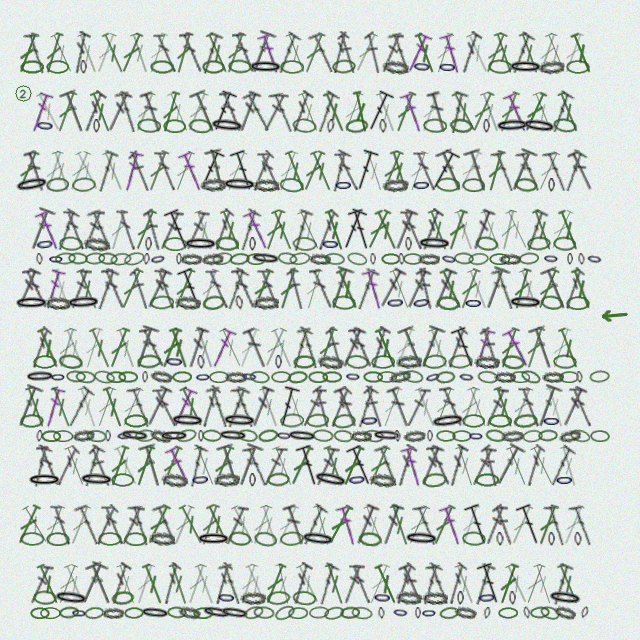chain: (312, 469, 349, 490), (14, 175, 50, 194), (521, 117, 557, 135), (430, 412, 466, 430), (300, 530, 336, 548), (53, 589, 89, 607), (547, 589, 583, 607), (209, 117, 245, 134), (201, 604, 232, 621), (495, 118, 530, 133), (222, 177, 257, 192), (417, 236, 452, 251), (66, 295, 101, 310), (508, 295, 543, 310), (170, 413, 205, 428), (222, 413, 257, 428), (79, 472, 114, 487), (404, 531, 439, 546), (219, 605, 250, 621), (248, 60, 283, 74), (508, 60, 543, 74), (183, 237, 218, 251), (14, 296, 49, 310), (27, 473, 62, 487), (196, 532, 231, 546), (250, 251, 281, 266), (119, 428, 150, 443), (273, 603, 297, 622), (253, 530, 278, 548), (552, 117, 578, 134), (382, 59, 409, 75), (538, 59, 565, 75), (382, 177, 409, 193), (83, 236, 110, 252), (317, 354, 344, 370), (161, 472, 188, 488), (369, 472, 396, 488), (292, 117, 317, 134), (58, 353, 83, 370), (287, 429, 317, 443), (140, 606, 170, 620), (519, 368, 542, 386), (449, 117, 473, 134), (475, 235, 499, 252), (202, 294, 226, 311), (540, 294, 564, 311), (388, 368, 412, 385), (228, 530, 252, 547), (553, 604, 577, 621), (200, 177, 227, 192), (188, 118, 213, 134), (279, 177, 304, 193), (292, 236, 317, 252), (513, 413, 538, 429), (422, 472, 447, 488), (266, 590, 291, 606), (292, 590, 317, 606), (539, 604, 561, 622), (123, 250, 146, 267), (175, 427, 198, 444), (175, 295, 201, 310), (253, 295, 279, 310), (396, 354, 422, 369), (25, 370, 55, 383), (218, 429, 248, 442), (372, 429, 402, 442), (214, 472, 240, 487), (149, 531, 175, 546), (396, 590, 422, 605), (345, 118, 369, 134), (514, 177, 538, 193), (436, 295, 460, 311), (345, 354, 369, 370), (501, 354, 525, 370), (332, 413, 356, 429), (149, 428, 173, 444), (558, 428, 582, 444), (358, 531, 382, 547), (111, 590, 135, 606), (448, 354, 473, 369), (243, 604, 265, 621), (93, 369, 116, 385), (253, 178, 279, 192), (45, 296, 71, 310), (474, 355, 500, 369), (240, 591, 266, 605), (422, 591, 448, 605), (228, 59, 252, 74), (332, 59, 356, 74), (488, 59, 512, 74), (137, 118, 161, 133), (423, 118, 447, 133), (72, 177, 96, 192), (436, 177, 460, 192), (59, 236, 83, 251), (215, 236, 239, 251), (527, 236, 551, 251), (150, 295, 174, 310), (332, 295, 356, 310), (137, 354, 161, 369), (423, 354, 447, 369), (553, 354, 577, 369), (280, 413, 304, 428), (159, 430, 189, 442), (280, 531, 304, 546), (462, 531, 486, 546), (33, 590, 57, 605), (411, 294, 432, 311), (346, 251, 368, 267), (569, 428, 591, 444), (323, 605, 345, 621), (46, 177, 69, 192), (553, 236, 576, 251), (150, 369, 173, 384), (306, 413, 329, 428), (72, 428, 95, 443), (267, 472, 290, 487), (178, 605, 201, 620), (454, 605, 477, 620), (20, 60, 44, 74), (150, 60, 174, 74), (280, 60, 304, 74), (566, 60, 590, 74), (163, 237, 187, 251), (566, 296, 590, 310), (33, 355, 57, 369), (371, 355, 395, 369), (20, 414, 44, 428), (124, 414, 148, 428), (488, 414, 512, 428), (475, 473, 499, 487), (20, 532, 44, 546), (46, 532, 70, 546), (98, 532, 122, 546), (289, 251, 311, 266), (402, 369, 424, 384), (257, 428, 279, 443), (46, 60, 69, 74), (202, 60, 225, 74), (163, 119, 186, 133), (462, 178, 485, 192), (201, 252, 224, 266), (293, 355, 316, 369), (462, 414, 485, 428), (403, 429, 426, 443), (501, 429, 524, 443), (111, 473, 134, 487), (124, 532, 147, 546), (35, 236, 55, 252), (212, 251, 233, 266), (277, 251, 298, 266), (237, 428, 258, 443), (485, 428, 506, 443), (110, 252, 132, 266), (477, 370, 499, 384), (351, 606, 373, 620), (412, 59, 432, 74), (35, 118, 55, 133), (347, 472, 367, 487), (477, 590, 497, 605), (229, 252, 250, 266), (324, 252, 345, 266), (468, 252, 489, 266), (75, 370, 96, 384), (249, 370, 270, 384), (287, 370, 308, 384), (435, 370, 456, 384), (86, 429, 107, 443), (333, 429, 354, 443), (363, 429, 384, 443), (522, 429, 543, 443), (84, 606, 105, 620), (439, 606, 460, 620), (424, 369, 442, 385), (312, 429, 334, 442), (253, 606, 275, 619), (386, 295, 405, 310), (165, 354, 184, 369), (360, 413, 379, 428), (191, 472, 210, 487), (217, 590, 236, 605), (373, 590, 392, 605), (55, 252, 76, 265), (589, 370, 610, 383), (135, 429, 156, 442), (438, 60, 457, 74), (334, 178, 353, 192), (412, 178, 431, 192), (321, 237, 340, 251), (464, 296, 483, 310), (542, 414, 561, 428), (555, 473, 574, 487), (180, 253, 202, 265), (309, 253, 331, 265), (418, 253, 440, 265), (499, 253, 521, 265), (225, 371, 247, 383), (494, 371, 516, 383), (542, 371, 564, 383), (350, 430, 372, 442), (102, 607, 124, 619), (68, 252, 88, 265), (85, 252, 105, 265), (98, 252, 118, 265), (454, 252, 474, 265), (519, 252, 539, 265), (66, 370, 86, 383), (202, 429, 222, 442), (538, 429, 558, 442), (59, 606, 79, 619), (167, 606, 187, 619), (309, 606, 329, 619), (340, 606, 360, 619), (530, 606, 550, 619), (149, 252, 167, 266), (440, 252, 458, 266), (489, 253, 510, 265), (40, 607, 61, 619), (246, 253, 266, 265), (381, 253, 401, 265), (403, 253, 423, 265), (106, 371, 126, 383), (118, 371, 138, 383), (172, 371, 192, 383), (209, 371, 229, 383), (271, 371, 291, 383), (308, 371, 328, 383), (322, 371, 342, 383), (363, 371, 383, 383), (377, 371, 397, 383), (510, 371, 530, 383), (559, 371, 579, 383), (41, 430, 61, 442), (53, 430, 73, 442), (436, 430, 456, 442), (452, 430, 472, 442), (590, 430, 610, 442), (30, 607, 50, 619), (124, 607, 144, 619), (193, 607, 213, 619), (288, 607, 308, 619), (498, 607, 518, 619), (586, 252, 603, 266), (458, 370, 475, 384), (241, 370, 258, 383), (116, 429, 133, 442), (392, 606, 409, 619), (543, 252, 559, 265), (345, 370, 361, 383), (276, 429, 292, 442), (48, 253, 64, 265), (50, 371, 66, 383), (195, 371, 211, 383), (468, 430, 484, 442), (71, 607, 87, 619), (421, 607, 437, 619), (235, 295, 244, 310), (326, 119, 335, 133), (580, 606, 589, 619), (379, 119, 387, 133), (197, 355, 205, 369), (496, 532, 504, 546), (574, 532, 582, 546), (523, 606, 531, 619), (80, 60, 87, 74), (93, 119, 100, 133), (483, 119, 490, 133), (548, 178, 555, 192), (145, 237, 152, 251), (249, 237, 256, 251), (405, 237, 412, 251), (275, 355, 282, 369), (249, 473, 256, 487), (548, 532, 555, 546), (457, 591, 464, 605), (509, 591, 516, 605), (483, 607, 491, 619), (36, 253, 43, 265), (143, 253, 150, 265), (398, 253, 405, 265), (578, 253, 585, 265), (576, 371, 583, 383), (36, 430, 43, 442), (394, 430, 401, 442), (378, 607, 385, 619), (176, 253, 182, 265), (370, 253, 376, 265), (567, 253, 573, 265), (142, 371, 148, 383), (105, 430, 111, 442), (198, 430, 204, 442), (427, 430, 433, 442), (415, 607, 421, 619)
double: (491, 443, 526, 488), (427, 148, 461, 193), (435, 148, 468, 193), (76, 561, 109, 606), (63, 385, 96, 429), (189, 89, 221, 134), (363, 89, 395, 134), (194, 148, 226, 193), (506, 148, 538, 193), (540, 266, 572, 311), (397, 325, 429, 370), (12, 384, 44, 429), (345, 443, 377, 488), (85, 561, 117, 606), (19, 503, 52, 546), (241, 90, 273, 134), (545, 444, 577, 488), (246, 30, 277, 75), (59, 89, 90, 134), (25, 207, 56, 252), (163, 207, 194, 252), (176, 266, 207, 311), (480, 266, 511, 311), (415, 325, 446, 370), (532, 384, 563, 429), (233, 443, 264, 488), (33, 90, 65, 133), (501, 326, 533, 369), (324, 503, 356, 546), (298, 503, 329, 547), (208, 89, 238, 134), (463, 148, 493, 193), (338, 207, 368, 252), (325, 266, 355, 311), (130, 325, 160, 370), (450, 325, 480, 370), (528, 325, 558, 370), (463, 502, 493, 547), (515, 502, 545, 547), (449, 90, 480, 133), (72, 149, 103, 192), (363, 208, 394, 251), (376, 267, 407, 310), (111, 444, 142, 487), (527, 444, 558, 487), (176, 503, 207, 546), (228, 503, 259, 546), (293, 562, 324, 605), (47, 31, 77, 75), (307, 31, 337, 75), (463, 31, 493, 75), (520, 90, 550, 134), (533, 149, 563, 193), (294, 208, 324, 252), (143, 267, 173, 311), (221, 385, 251, 429), (403, 503, 433, 547), (229, 148, 258, 193), (351, 148, 380, 193), (138, 443, 167, 488), (216, 443, 245, 488), (476, 561, 505, 606), (351, 31, 381, 74), (403, 31, 433, 74), (455, 149, 485, 192), (567, 149, 597, 192), (242, 208, 272, 251), (502, 208, 532, 251), (546, 208, 576, 251), (216, 326, 246, 369), (260, 326, 290, 369), (143, 385, 173, 428), (177, 385, 207, 428), (164, 444, 194, 487), (286, 444, 316, 487), (13, 503, 43, 546), (143, 503, 173, 546), (203, 503, 233, 546), (502, 562, 532, 605), (99, 31, 128, 75), (117, 31, 146, 75), (203, 31, 232, 75), (273, 31, 302, 75), (481, 31, 510, 75), (507, 31, 536, 75), (104, 90, 133, 134), (164, 90, 193, 134), (268, 90, 297, 134), (312, 90, 341, 134), (320, 90, 349, 134), (468, 90, 497, 134), (502, 90, 531, 134), (13, 149, 42, 193), (65, 149, 94, 193), (99, 149, 128, 193), (177, 149, 206, 193), (299, 149, 328, 193), (307, 149, 336, 193), (515, 149, 544, 193), (34, 208, 63, 252), (52, 208, 81, 252), (86, 208, 115, 252), (268, 208, 297, 252), (372, 208, 401, 252), (520, 208, 549, 252), (13, 267, 42, 311), (91, 267, 120, 311), (117, 267, 146, 311), (333, 267, 362, 311), (351, 267, 380, 311), (403, 267, 432, 311), (437, 267, 466, 311), (533, 267, 562, 311), (34, 326, 63, 370), (86, 326, 115, 370), (208, 326, 237, 370), (242, 326, 271, 370), (268, 326, 297, 370), (338, 326, 367, 370), (372, 326, 401, 370), (117, 385, 146, 429), (169, 385, 198, 429), (333, 385, 362, 429), (559, 385, 588, 429), (242, 444, 271, 488), (364, 444, 393, 488), (73, 503, 102, 547), (151, 503, 180, 547), (169, 503, 198, 547), (273, 503, 302, 547), (429, 503, 458, 547), (507, 503, 536, 547), (559, 503, 588, 547), (34, 562, 63, 606), (242, 562, 271, 606), (364, 562, 393, 606), (372, 562, 401, 606), (398, 562, 427, 606), (554, 562, 583, 606), (347, 207, 375, 252), (295, 443, 323, 488), (14, 31, 42, 75), (74, 31, 102, 75), (92, 31, 120, 75), (196, 31, 224, 75), (282, 31, 310, 75), (300, 31, 328, 75), (542, 31, 570, 75), (568, 31, 596, 75), (87, 90, 115, 134), (131, 90, 159, 134), (183, 90, 211, 134), (295, 90, 323, 134), (391, 90, 419, 134), (495, 90, 523, 134), (529, 90, 557, 134), (547, 90, 575, 134), (555, 90, 583, 134), (144, 149, 172, 193), (170, 149, 198, 193), (222, 149, 250, 193), (282, 149, 310, 193), (378, 149, 406, 193), (490, 149, 518, 193), (542, 149, 570, 193), (560, 149, 588, 193), (131, 208, 159, 252), (217, 208, 245, 252), (391, 208, 419, 252), (477, 208, 505, 252), (555, 208, 583, 252), (74, 267, 102, 311), (170, 267, 198, 311), (222, 267, 250, 311), (248, 267, 276, 311), (386, 267, 414, 311), (430, 267, 458, 311), (464, 267, 492, 311), (61, 326, 89, 370), (105, 326, 133, 370), (157, 326, 185, 370), (235, 326, 263, 370), (425, 326, 453, 370), (555, 326, 583, 370), (126, 385, 154, 429), (230, 385, 258, 429), (352, 385, 380, 429), (386, 385, 414, 429), (412, 385, 440, 429), (508, 385, 536, 429), (61, 444, 89, 488), (157, 444, 185, 488), (191, 444, 219, 488), (209, 444, 237, 488), (269, 444, 297, 488), (339, 444, 367, 488), (373, 444, 401, 488), (417, 444, 445, 488), (503, 444, 531, 488), (40, 503, 68, 547), (66, 503, 94, 547), (352, 503, 380, 547), (360, 503, 388, 547), (412, 503, 440, 547), (568, 503, 596, 547), (53, 562, 81, 606), (61, 562, 89, 606), (139, 562, 167, 606), (191, 562, 219, 606), (261, 562, 289, 606), (425, 562, 453, 606), (451, 562, 479, 606), (204, 148, 231, 193), (79, 90, 107, 133), (144, 31, 171, 75), (222, 31, 249, 75), (412, 31, 439, 75), (516, 31, 543, 75), (534, 31, 561, 75), (560, 31, 587, 75), (27, 90, 54, 134), (53, 90, 80, 134), (139, 90, 166, 134), (235, 90, 262, 134), (339, 90, 366, 134), (373, 90, 400, 134), (399, 90, 426, 134), (417, 90, 444, 134), (477, 90, 504, 134), (92, 149, 119, 193), (274, 149, 301, 193), (191, 208, 218, 252), (235, 208, 262, 252), (261, 208, 288, 252), (287, 208, 314, 252), (425, 208, 452, 252), (451, 208, 478, 252), (469, 208, 496, 252), (529, 208, 556, 252), (456, 267, 483, 311), (490, 267, 517, 311), (516, 267, 543, 311), (568, 267, 595, 311), (113, 326, 140, 370), (287, 326, 314, 370), (391, 326, 418, 370), (547, 326, 574, 370), (22, 385, 49, 429), (48, 385, 75, 429), (92, 385, 119, 429), (100, 385, 127, 429), (248, 385, 275, 429), (256, 385, 283, 429), (274, 385, 301, 429), (282, 385, 309, 429), (378, 385, 405, 429), (430, 385, 457, 429), (456, 385, 483, 429), (464, 385, 491, 429), (79, 444, 106, 488), (321, 444, 348, 488), (248, 503, 275, 547), (282, 503, 309, 547), (438, 503, 465, 547), (534, 503, 561, 547), (113, 562, 140, 606), (183, 562, 210, 606), (217, 562, 244, 606), (417, 562, 444, 606), (469, 562, 496, 606), (495, 562, 522, 606), (521, 562, 548, 606), (547, 562, 574, 606), (261, 91, 289, 133), (53, 445, 81, 487), (469, 445, 497, 487), (92, 504, 120, 546), (456, 31, 483, 74), (287, 90, 314, 133), (417, 208, 444, 251), (22, 267, 49, 310), (139, 326, 166, 369), (23, 31, 49, 75), (127, 31, 153, 75), (257, 31, 283, 75), (387, 31, 413, 75), (431, 31, 457, 75), (491, 31, 517, 75), (23, 149, 49, 193), (41, 149, 67, 193), (361, 149, 387, 193), (405, 149, 431, 193), (322, 208, 348, 252), (444, 208, 470, 252), (49, 267, 75, 311), (275, 267, 301, 311), (54, 326, 80, 370), (80, 326, 106, 370), (166, 326, 192, 370), (184, 326, 210, 370), (192, 326, 218, 370), (314, 326, 340, 370), (470, 326, 496, 370), (496, 326, 522, 370), (522, 326, 548, 370), (75, 385, 101, 429), (205, 385, 231, 429), (491, 385, 517, 429), (106, 444, 132, 488), (132, 444, 158, 488), (452, 444, 478, 488), (127, 503, 153, 547), (197, 503, 223, 547), (379, 503, 405, 547), (387, 503, 413, 547), (457, 503, 483, 547), (543, 503, 569, 547), (132, 562, 158, 606), (166, 562, 192, 606), (314, 562, 340, 606), (322, 562, 348, 606), (530, 562, 556, 606), (334, 150, 361, 192), (157, 209, 184, 251), (183, 209, 210, 251), (152, 386, 179, 428), (300, 386, 327, 428), (404, 386, 431, 428), (87, 445, 114, 487), (261, 445, 288, 487), (313, 445, 340, 487), (27, 563, 54, 605), (153, 31, 179, 74), (205, 267, 231, 310), (231, 267, 257, 310), (348, 326, 374, 369), (392, 444, 418, 487), (426, 444, 452, 487), (106, 562, 132, 605), (41, 31, 66, 75), (439, 31, 464, 75), (114, 90, 139, 134), (158, 90, 183, 134), (426, 90, 451, 134), (444, 90, 469, 134), (49, 149, 74, 193), (327, 149, 352, 193), (387, 149, 412, 193), (106, 208, 131, 252), (41, 267, 66, 311), (197, 267, 222, 311), (301, 267, 326, 311), (361, 267, 386, 311), (296, 326, 321, 370), (41, 385, 66, 429), (543, 385, 568, 429), (28, 444, 53, 488), (184, 444, 209, 488), (400, 444, 425, 488), (257, 503, 282, 547), (335, 503, 360, 547), (236, 562, 261, 606), (127, 150, 153, 192), (249, 150, 275, 192), (257, 150, 283, 192), (314, 209, 340, 251), (327, 386, 353, 428), (483, 386, 509, 428), (119, 504, 145, 546), (223, 504, 249, 546), (179, 31, 204, 74), (379, 31, 404, 74), (413, 149, 438, 192), (400, 208, 425, 251), (101, 267, 126, 310), (257, 267, 282, 310), (309, 267, 334, 310), (561, 267, 586, 310), (28, 326, 53, 369), (366, 326, 391, 369), (444, 326, 469, 369), (439, 385, 464, 428), (569, 385, 594, 428), (36, 444, 61, 487), (444, 444, 469, 487), (101, 503, 126, 546), (483, 503, 508, 546), (491, 503, 516, 546), (288, 562, 313, 605), (392, 562, 417, 605), (172, 31, 196, 75), (120, 149, 144, 193), (484, 149, 508, 193), (510, 267, 534, 311), (557, 444, 581, 488), (310, 503, 334, 547), (232, 31, 256, 74), (219, 90, 243, 133), (154, 149, 178, 192), (63, 208, 87, 251), (81, 208, 105, 251), (211, 208, 235, 251), (68, 267, 92, 310), (128, 267, 152, 310), (198, 385, 222, 428), (362, 385, 386, 428), (518, 385, 542, 428), (341, 562, 365, 605), (349, 562, 373, 605), (497, 208, 520, 252), (336, 31, 359, 74), (154, 267, 177, 310), (479, 326, 502, 369), (523, 444, 546, 487), (50, 503, 73, 546), (211, 562, 234, 605), (445, 562, 468, 605), (272, 562, 294, 606), (69, 31, 91, 74), (350, 90, 372, 133), (116, 208, 138, 251), (142, 208, 164, 251), (285, 267, 307, 310), (324, 326, 346, 369), (311, 385, 333, 428), (160, 562, 182, 605), (329, 31, 350, 74), (363, 31, 384, 74), (415, 267, 436, 310), (480, 444, 501, 487)
noise: (13, 83, 33, 103), (599, 309, 628, 322)
